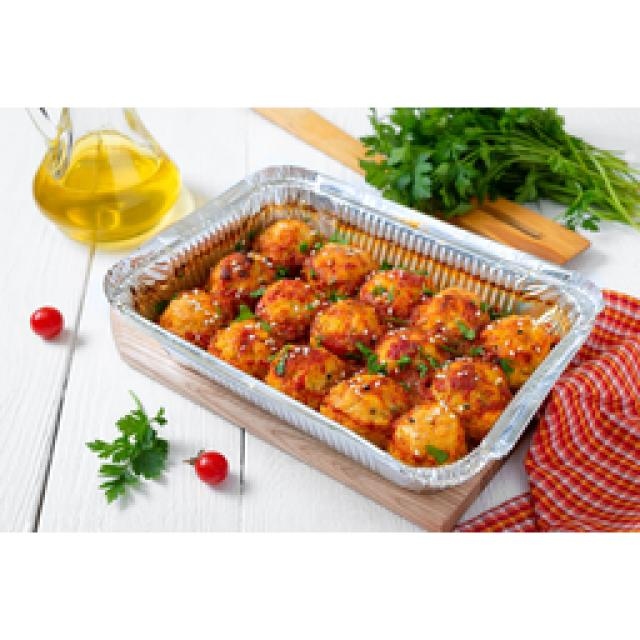alumunium: (104, 173, 602, 529)
